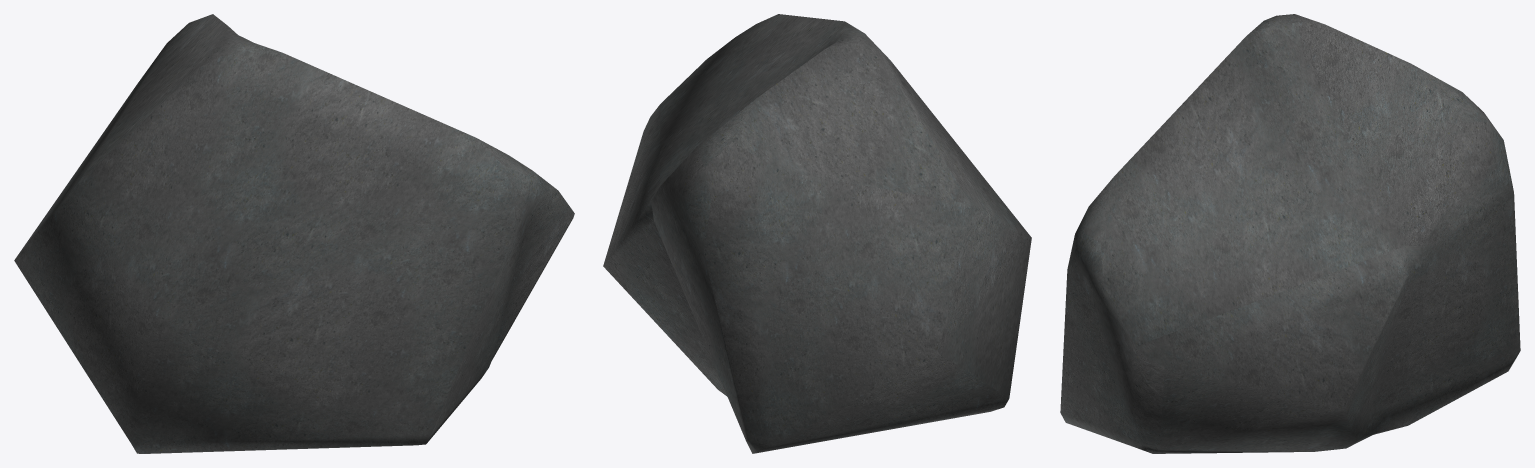
The model's file is rock.011.obj.
3 renders of one model, left to right at view 1: azimuth 30°, elevation 25°; view 2: azimuth 150°, elevation 25°; view 3: azimuth 270°, elevation 25°, orthographic. The views are drawn at different scales.
Bounding box in the file's own units: 1.38 × 1.18 × 1.24.
Materials: 1 (1 with a texture image).
